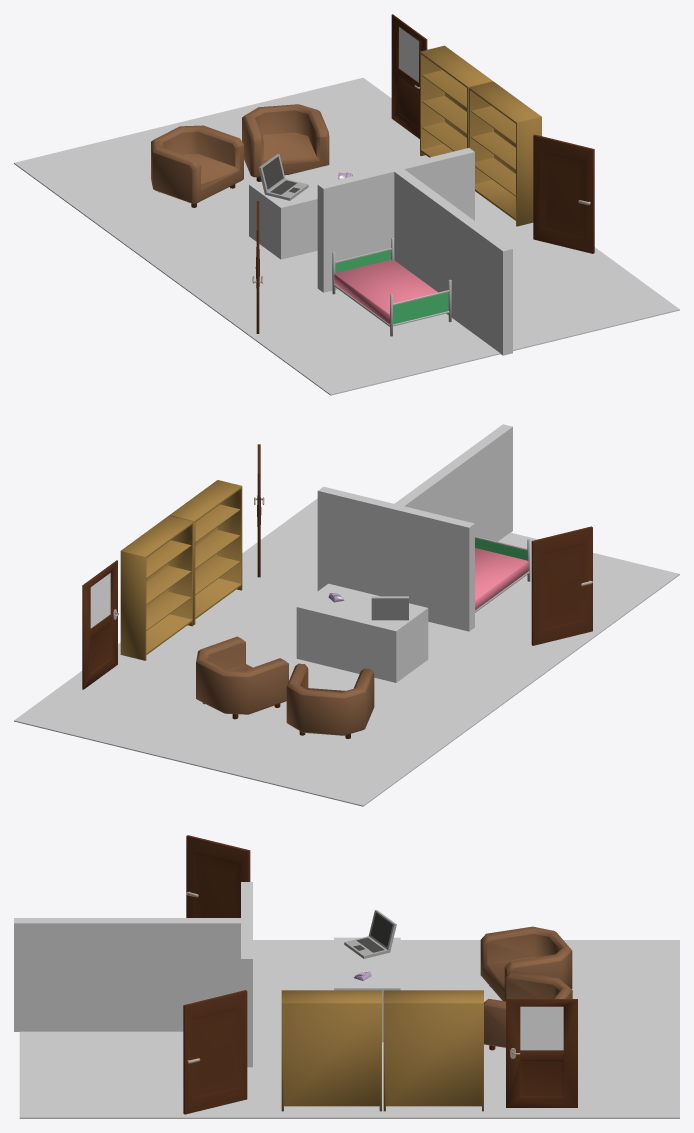
File: map_wip.fbx
The picture shows the model from 3 angles, top to bottom: view 1: azimuth 30°, elevation 25°; view 2: azimuth 150°, elevation 25°; view 3: azimuth 270°, elevation 25°; orthographic projection. The views are drawn at different scales.
Parts seen in each view (by area): view 1: Würfel_1, Würfel_2, Würfel_3, shelf_1, door_1_1, Symmetrie, shelf, Symmetrie_1, Würfel, Würfel_2_2, Polygon_2, Würfel_3_2 (+4 smaller); view 2: Würfel_1, Würfel_3, Würfel, shelf, Würfel_2, door_1, shelf_1, Symmetrie_1, Symmetrie, Polygon_2, Würfel_2_2, upper_half (+2 smaller); view 3: Würfel_1, Würfel_2, shelf_1, shelf, door_1_1, Polygon_2, door_1, Symmetrie, Würfel, Symmetrie_1, Polygon_3, Würfel_3 (+2 smaller).
Boxes of the visible parts, box(x1,y1,x2,y2) form: Würfel_1: box(14, 77, 679, 395); Würfel_2: box(393, 168, 512, 355); Würfel_3: box(317, 148, 474, 292); shelf_1: box(468, 81, 541, 226); door_1_1: box(533, 134, 594, 253); Symmetrie: box(151, 125, 243, 207); shelf: box(420, 45, 492, 157); Symmetrie_1: box(242, 104, 329, 181); Würfel: box(249, 160, 365, 259); Würfel_2_2: box(334, 259, 437, 324); Polygon_2: box(391, 14, 427, 138); Würfel_3_2: box(335, 250, 448, 324); Würfel_1: box(14, 498, 679, 806); Würfel_3: box(317, 486, 474, 631); Würfel: box(296, 583, 428, 682); shelf: box(120, 515, 193, 660); Würfel_2: box(393, 424, 512, 541); door_1: box(531, 526, 592, 645); shelf_1: box(169, 480, 242, 624); Symmetrie_1: box(196, 636, 288, 719); Symmetrie: box(286, 663, 374, 738); Polygon_2: box(82, 560, 118, 689); Würfel_2_2: box(475, 548, 528, 610); upper_half: box(371, 596, 408, 620); Würfel_1: box(19, 940, 679, 1118); Würfel_2: box(14, 918, 244, 1031); shelf_1: box(281, 990, 381, 1111); shelf: box(383, 990, 483, 1111); door_1_1: box(183, 990, 247, 1114); Polygon_2: box(506, 999, 577, 1107); door_1: box(186, 835, 250, 917); Symmetrie: box(480, 926, 572, 1000); Würfel: box(334, 937, 400, 1042); Symmetrie_1: box(484, 971, 572, 1050); Polygon_3: box(520, 1006, 563, 1050); Würfel_3: box(241, 882, 252, 1067).
Bounding box in the file's own units: 700 × 201 × 1109.
Materials: 2 (1 with a texture image).
